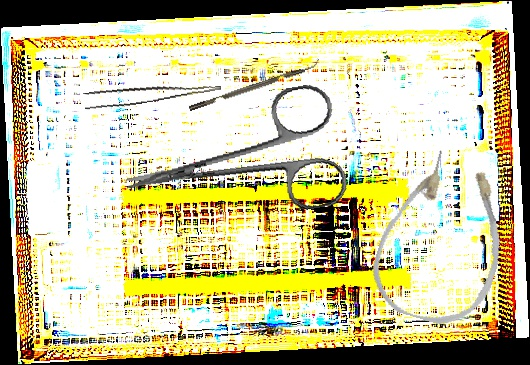Cannula: (362, 141, 525, 336)
Chopper: (186, 56, 322, 112)
Iris Scissors: (113, 81, 351, 240)
Tissue Forceps: (82, 69, 222, 114)
